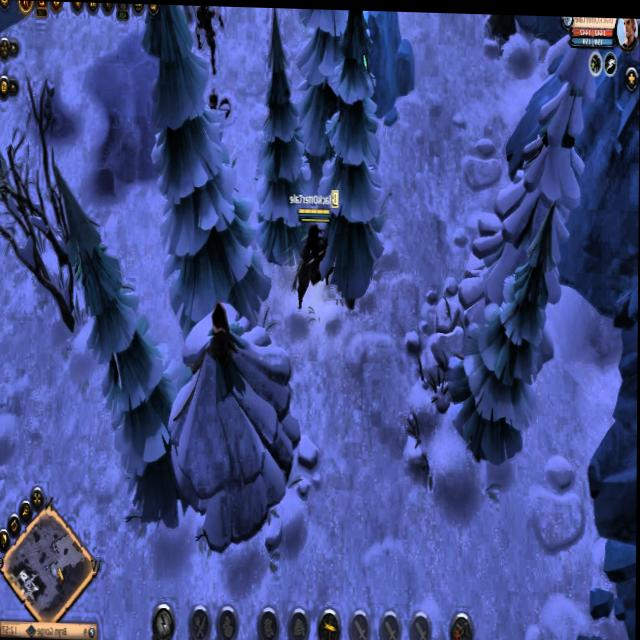copperore: (573, 630, 616, 640)
